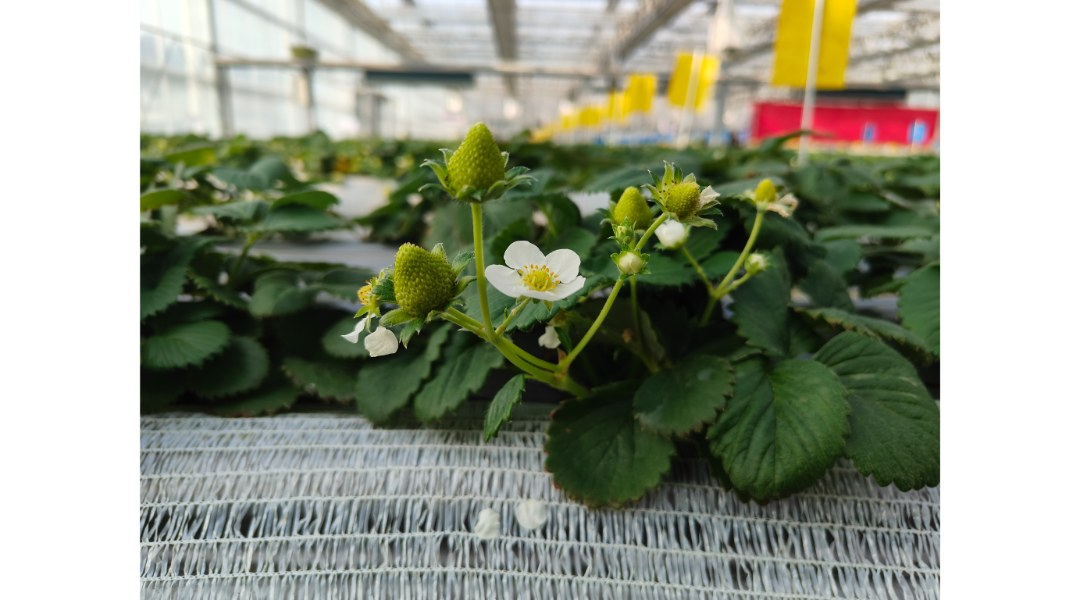berry: (427, 119, 520, 208), (381, 235, 460, 314), (648, 165, 720, 222), (743, 177, 803, 220), (605, 179, 647, 229)
flower: (484, 235, 596, 305)
strain: (565, 281, 619, 370), (716, 217, 759, 290), (469, 206, 489, 330), (498, 344, 550, 381)
